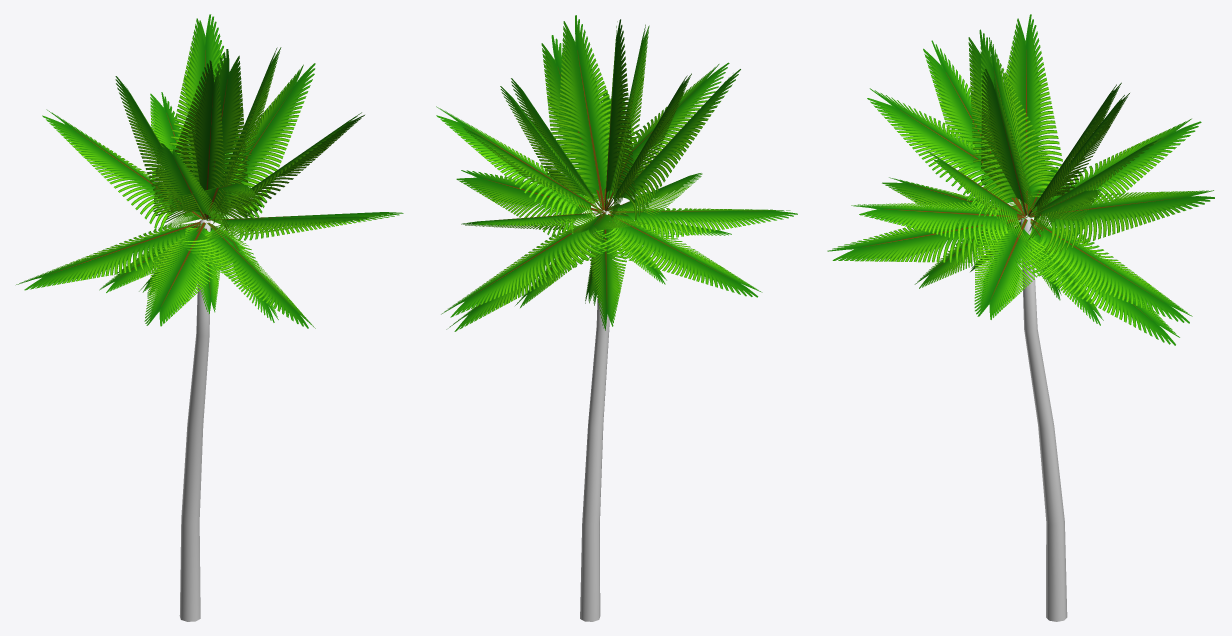
The model's file is Palm1_LOD1.fbx.
The picture shows the model from 3 angles, left to right: view 1: azimuth 30°, elevation 25°; view 2: azimuth 150°, elevation 25°; view 3: azimuth 270°, elevation 25°; orthographic projection. The views are drawn at different scales.
Parts seen in each view (by area): view 1: Palm1_LOD1; view 2: Palm1_LOD1; view 3: Palm1_LOD1.
Boxes of the visible parts, <box> form: Palm1_LOD1: <box>15,14,403,621</box>; Palm1_LOD1: <box>436,15,797,621</box>; Palm1_LOD1: <box>827,14,1214,621</box>.
Size of the model in its own units: 893 by 1443 by 878.
